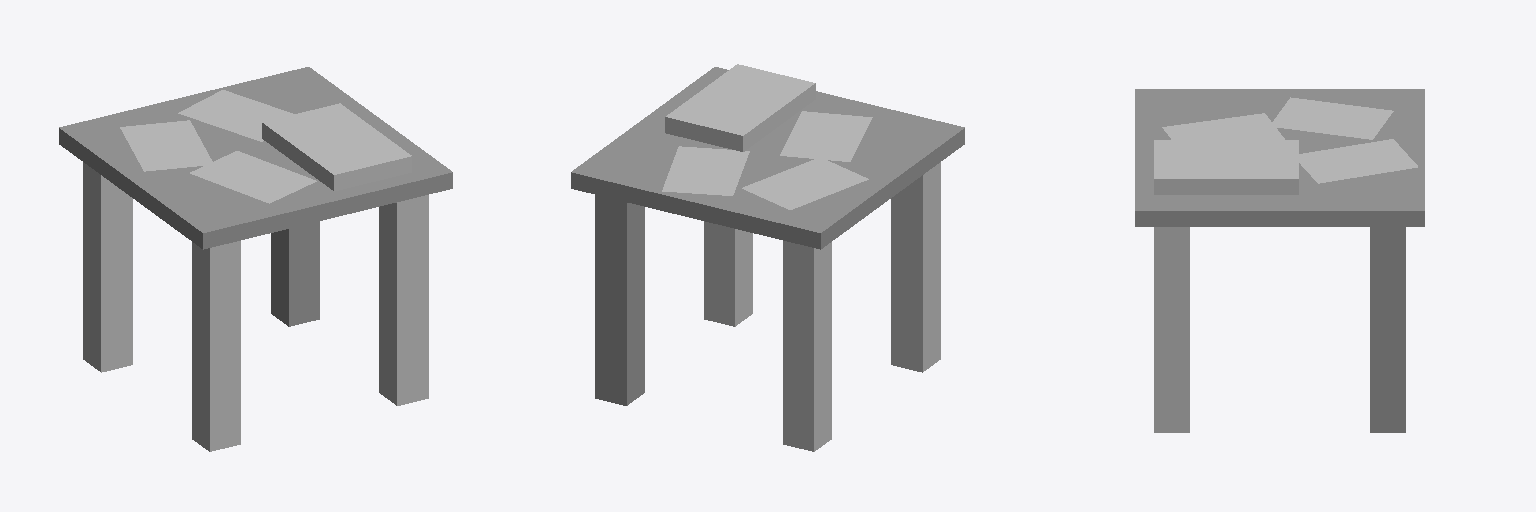
File: research_station.obj
3 views of the same model, side by side, from view 1: azimuth 30°, elevation 25°; view 2: azimuth 150°, elevation 25°; view 3: azimuth 270°, elevation 25° (orthographic).
Bounding box in the file's own units: 1 × 0.94 × 1.